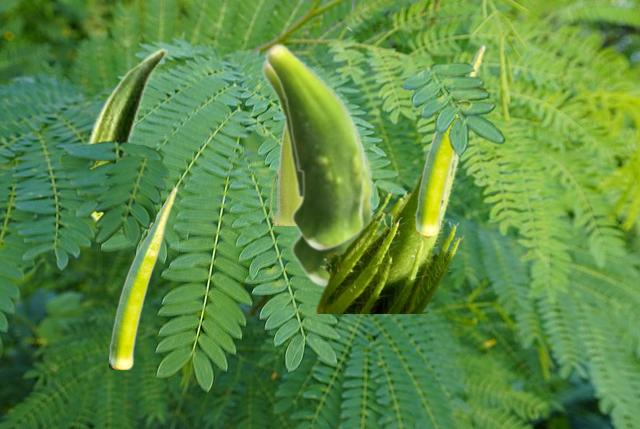okra: (260, 60, 375, 286), (313, 154, 468, 312), (264, 42, 366, 250), (84, 48, 166, 224), (415, 44, 485, 239), (109, 186, 176, 368), (269, 127, 299, 224)
